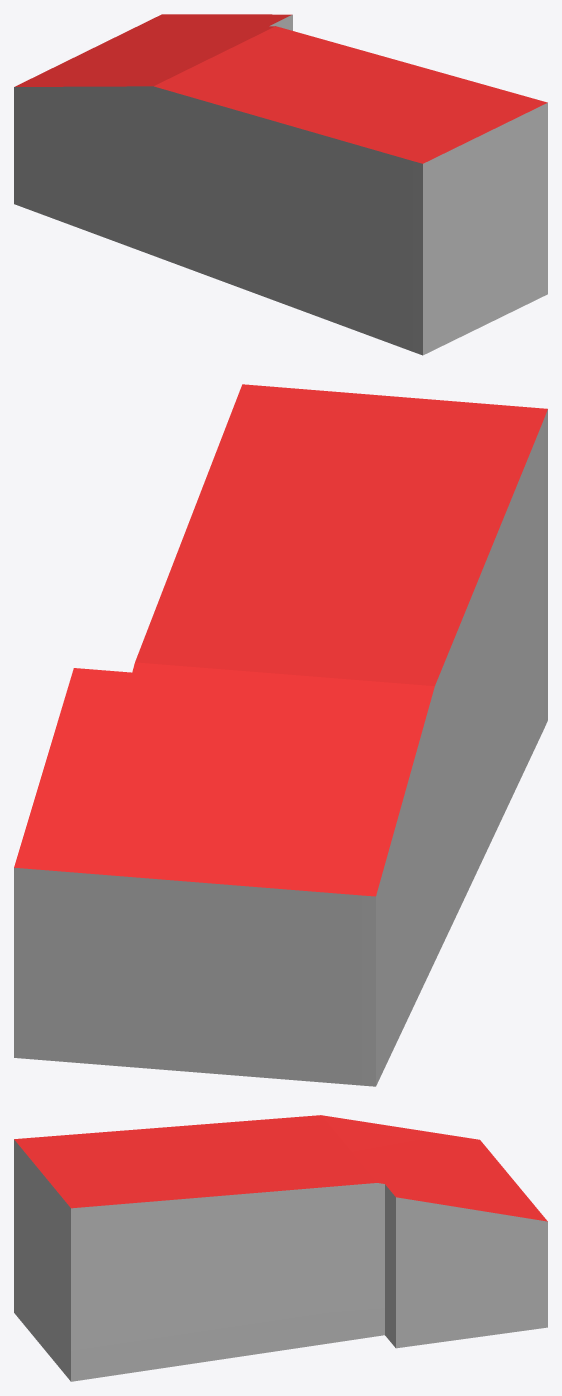
The model's file is DEBY_LOD2_4783244.dae.
3 renders of one model, top to bottom at view 1: azimuth 30°, elevation 25°; view 2: azimuth 150°, elevation 25°; view 3: azimuth 270°, elevation 25°, orthographic. The views are drawn at different scales.
Bounding box in the file's own units: 7.95 × 13.18 × 4.73.
